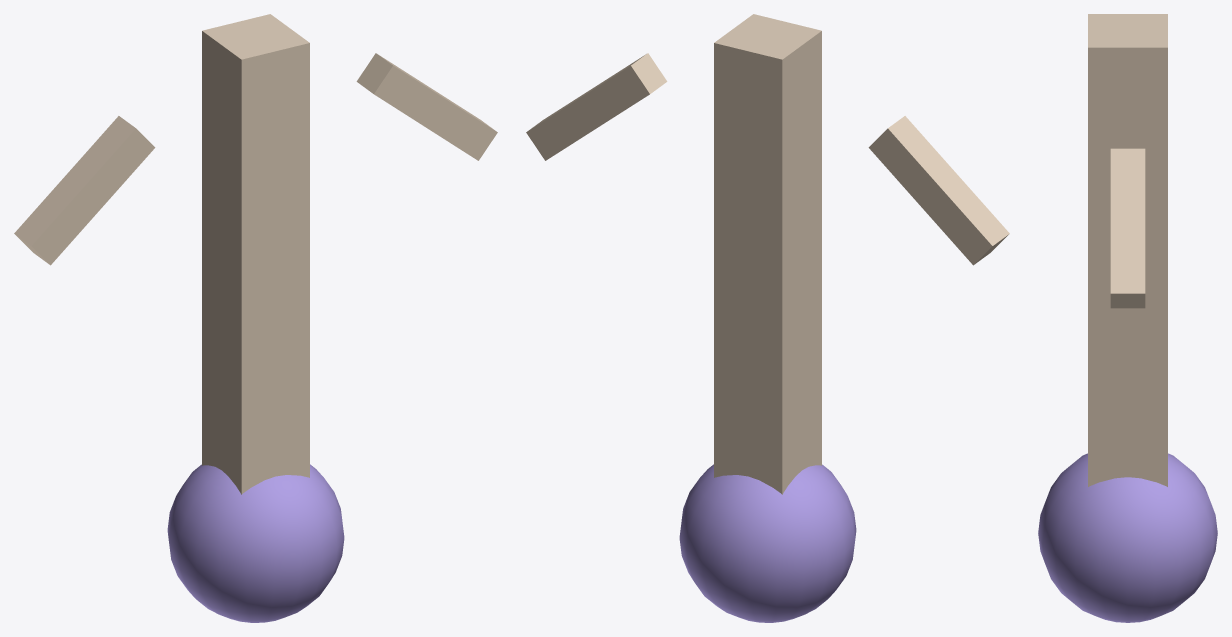
The model's file is fault_chauffage.gltf.
The picture shows the model from 3 angles, left to right: view 1: azimuth 30°, elevation 25°; view 2: azimuth 150°, elevation 25°; view 3: azimuth 270°, elevation 25°; orthographic projection.
Parts seen in each view (by area): view 1: thermometer, thermo_bulb, cold_mark_l, cold_mark_r; view 2: thermometer, thermo_bulb, cold_mark_l, cold_mark_r; view 3: thermometer, thermo_bulb, cold_mark_r.
Part boxes in pixels (x1,y1,x2,y2): thermometer: [202, 14, 309, 494]; thermo_bulb: [167, 464, 344, 622]; cold_mark_l: [14, 116, 155, 265]; cold_mark_r: [356, 53, 497, 160]; thermometer: [714, 14, 821, 494]; thermo_bulb: [679, 464, 856, 622]; cold_mark_l: [868, 116, 1009, 265]; cold_mark_r: [526, 53, 667, 160]; thermometer: [1088, 14, 1167, 486]; thermo_bulb: [1038, 453, 1217, 622]; cold_mark_r: [1110, 148, 1145, 308].
Size of the model in its own units: 0.5449 by 0.645 by 0.18.
